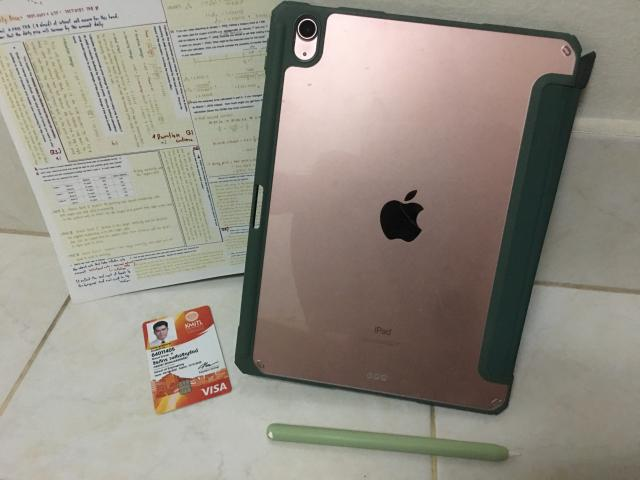paper: (0, 0, 326, 302)
